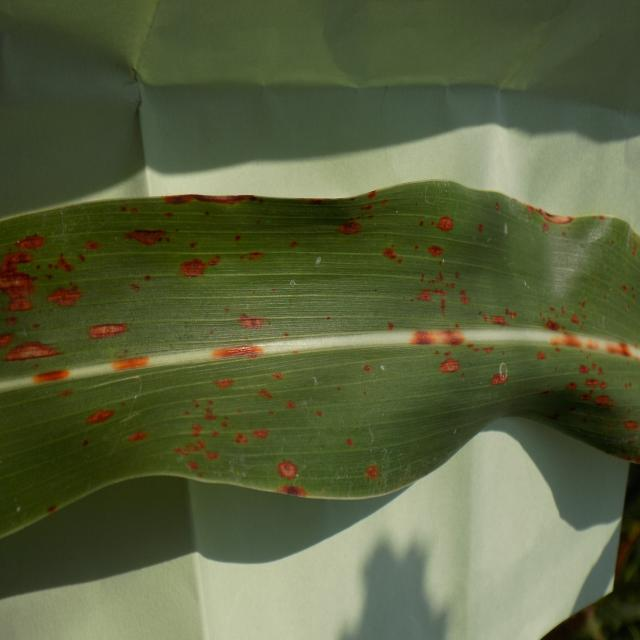millet_rust: (0, 183, 640, 540)
